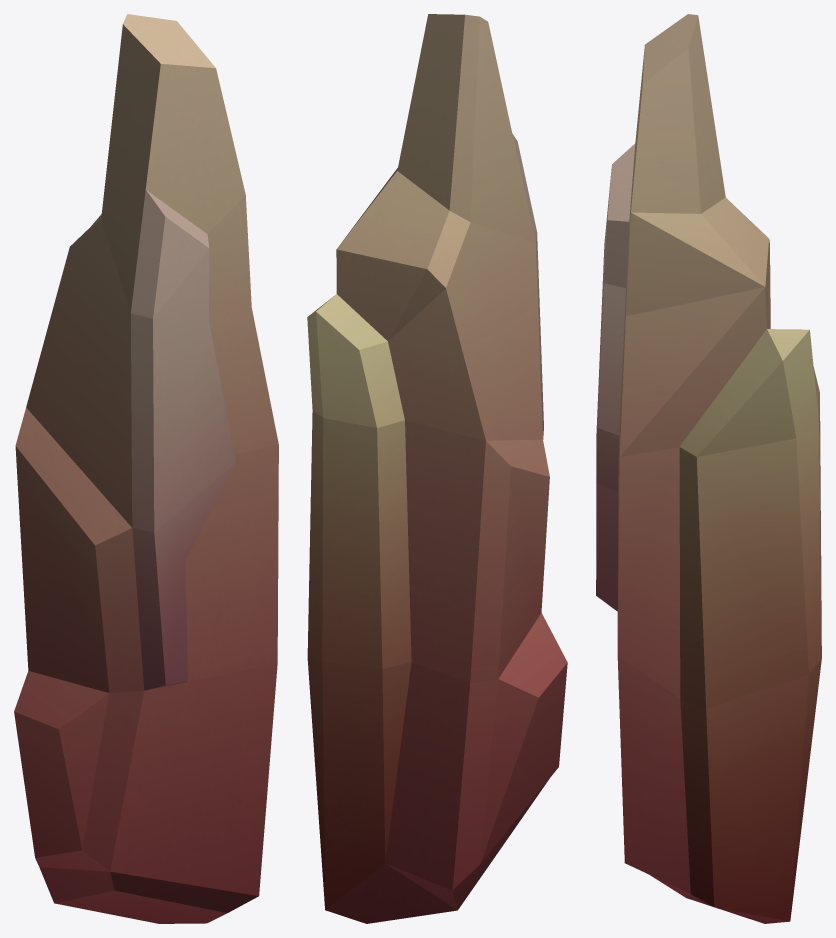
File: tall_rock_dry.FBX
The picture shows the model from 3 angles, left to right: view 1: azimuth 30°, elevation 25°; view 2: azimuth 150°, elevation 25°; view 3: azimuth 270°, elevation 25°; orthographic projection. The views are drawn at different scales.
Parts seen in each view (by area): view 1: tall_rock_dry; view 2: tall_rock_dry; view 3: tall_rock_dry.
Boxes of the visible parts, x1,y1,x2,y2 form: tall_rock_dry: (14,14,278,923); tall_rock_dry: (307,14,567,923); tall_rock_dry: (596,14,821,923).
Bounding box in the file's own units: 3.29 × 13.48 × 3.14.
